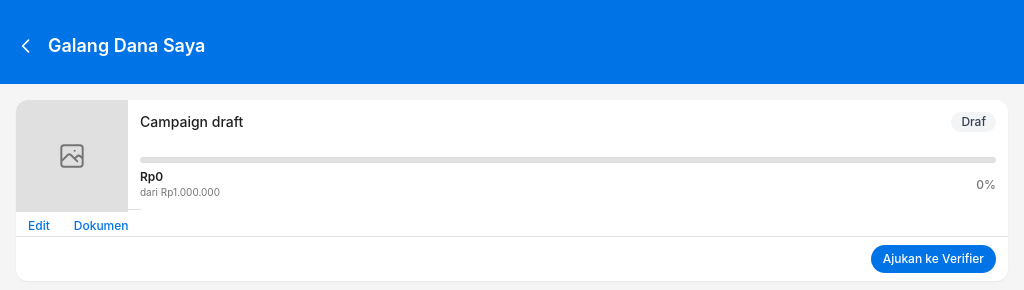
Kampanye Saya › shows why a submission was refused
The width and height of the screenshot is (1024, 290).
Step 1. Click the button "Ajukan ke Verifier" → [933, 259], box [871,245,996,273]
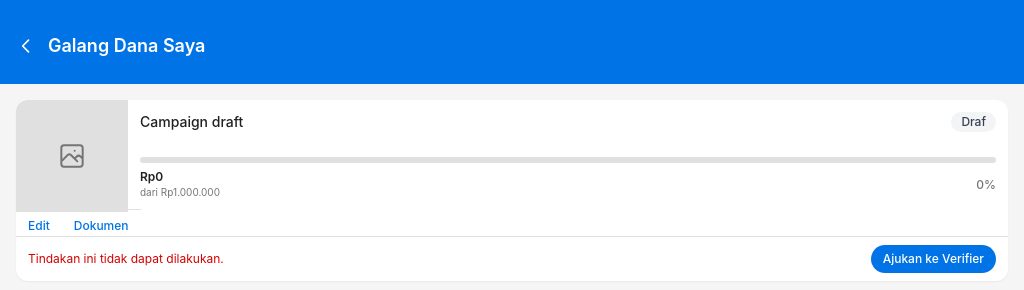
Now the text "Tindakan ini tidak dapat dilakukan." is shown, box [28,251,224,267]
